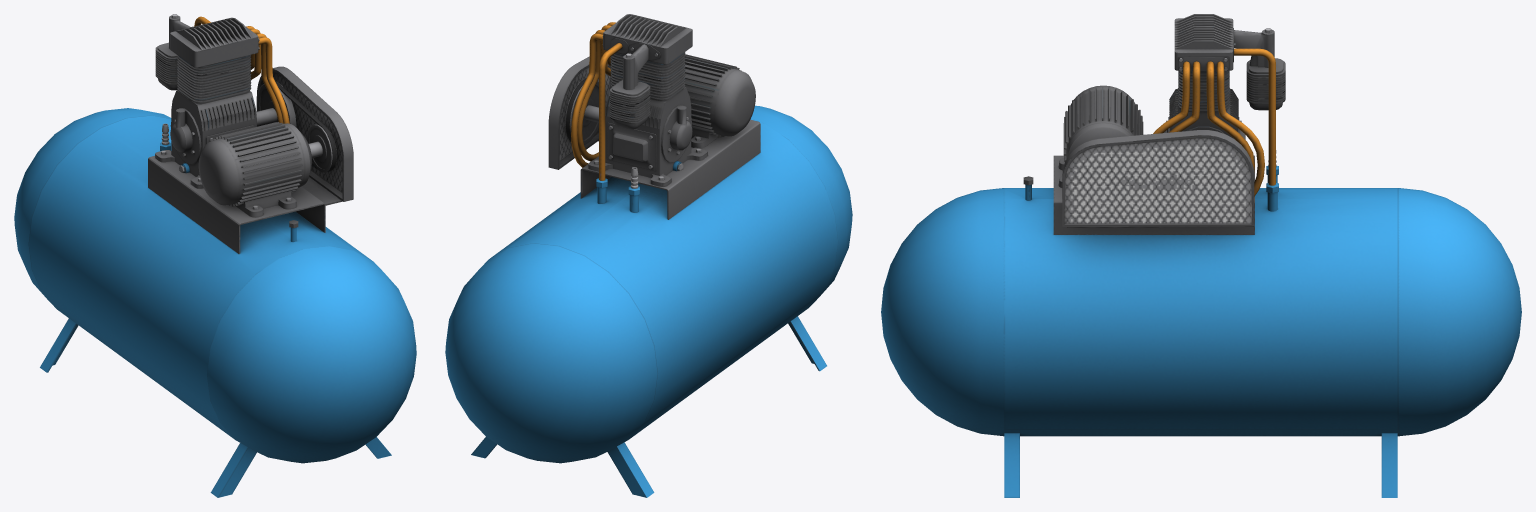
Rendered from Compressor.FBX.
3 renders of one model, left to right at view 1: azimuth 30°, elevation 25°; view 2: azimuth 150°, elevation 25°; view 3: azimuth 270°, elevation 25°, orthographic. The views are drawn at different scales.
Visible parts, largest first — view 1: Compressor; view 2: Compressor; view 3: Compressor.
Boxes of the visible parts, bbox=[...] form: Compressor: bbox=[14, 14, 416, 497]; Compressor: bbox=[445, 14, 852, 497]; Compressor: bbox=[881, 14, 1521, 497].
Bounding box in the file's own units: 507 × 1303 × 949.
